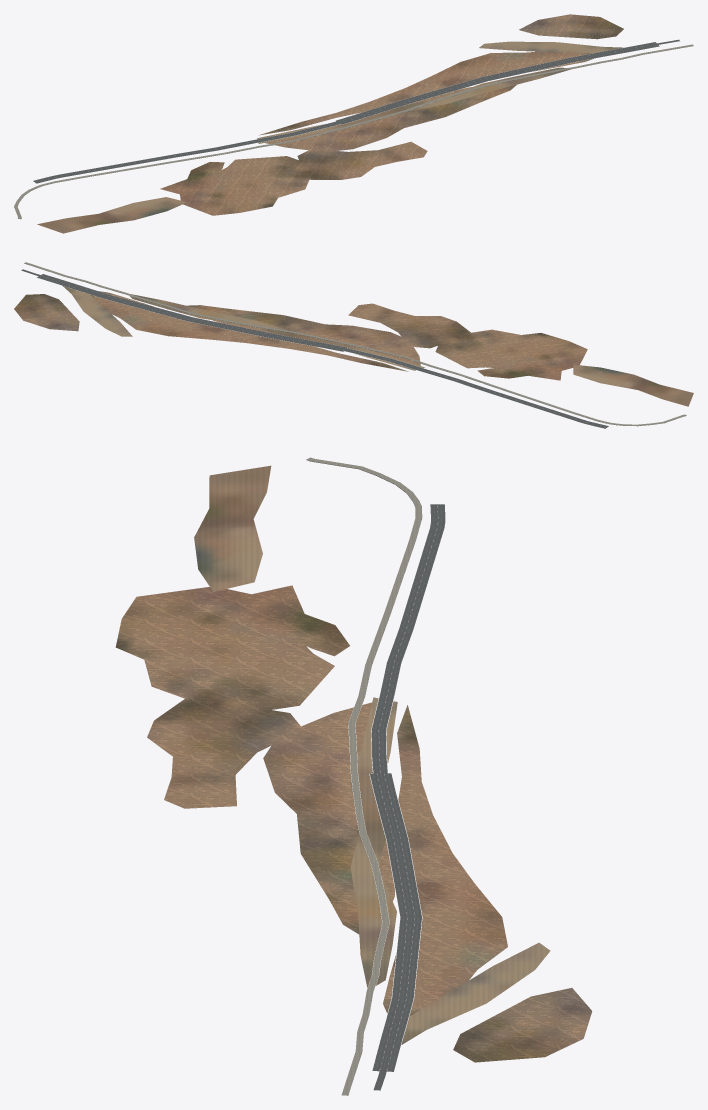
The picture shows the model from 3 angles, top to bottom: view 1: azimuth 30°, elevation 25°; view 2: azimuth 150°, elevation 25°; view 3: azimuth 270°, elevation 25°; orthographic projection. The views are drawn at different scales.
Parts seen in each view (by area): view 1: Graded soil, Compacted gravel, Straits Boulevard asphalt, Straits Boulevard footway; view 2: Graded soil, Compacted gravel, Straits Boulevard asphalt, Straits Boulevard footway; view 3: Graded soil, Compacted gravel, Straits Boulevard asphalt, Straits Boulevard footway.
Boxes of the visible parts, x1,y1,x2,y2 form: Graded soil: (160,14,623,215); Compacted gravel: (37,41,623,233); Straits Boulevard asphalt: (33,39,679,183); Straits Boulevard footway: (14,44,693,219); Graded soil: (14,291,587,380); Compacted gravel: (63,286,693,406); Straits Boulevard asphalt: (21,269,608,428); Straits Boulevard footway: (24,262,686,426); Graded soil: (115,585,592,1062); Compacted gravel: (194,465,550,1044); Straits Boulevard asphalt: (370,504,445,1090); Straits Boulevard footway: (306,457,422,1095).
Size of the model in its own units: 659 by 0.5526 by 208.
Materials: 5 (4 with a texture image).
